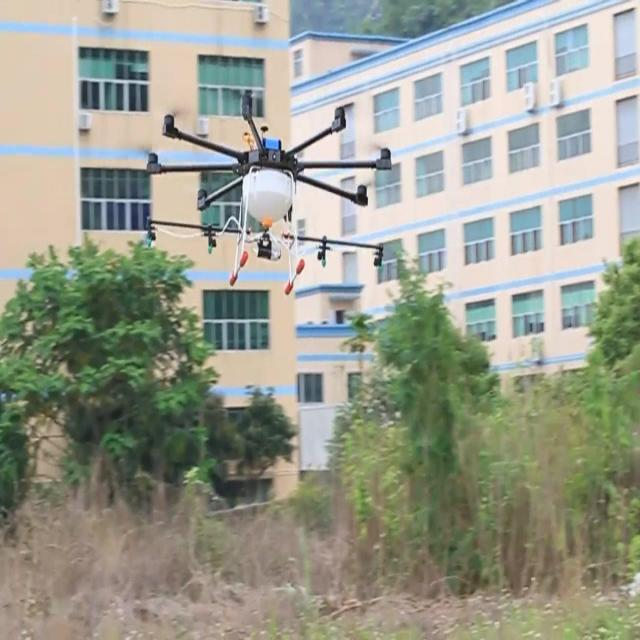UAV: (146, 91, 392, 294)
